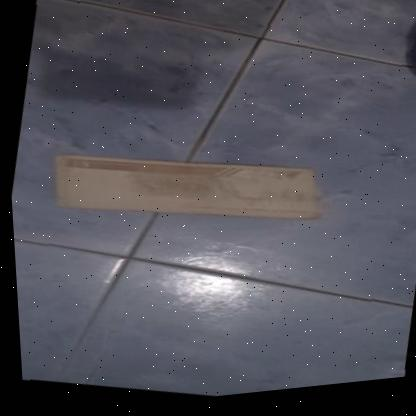vef_back: (41, 123, 320, 258)
